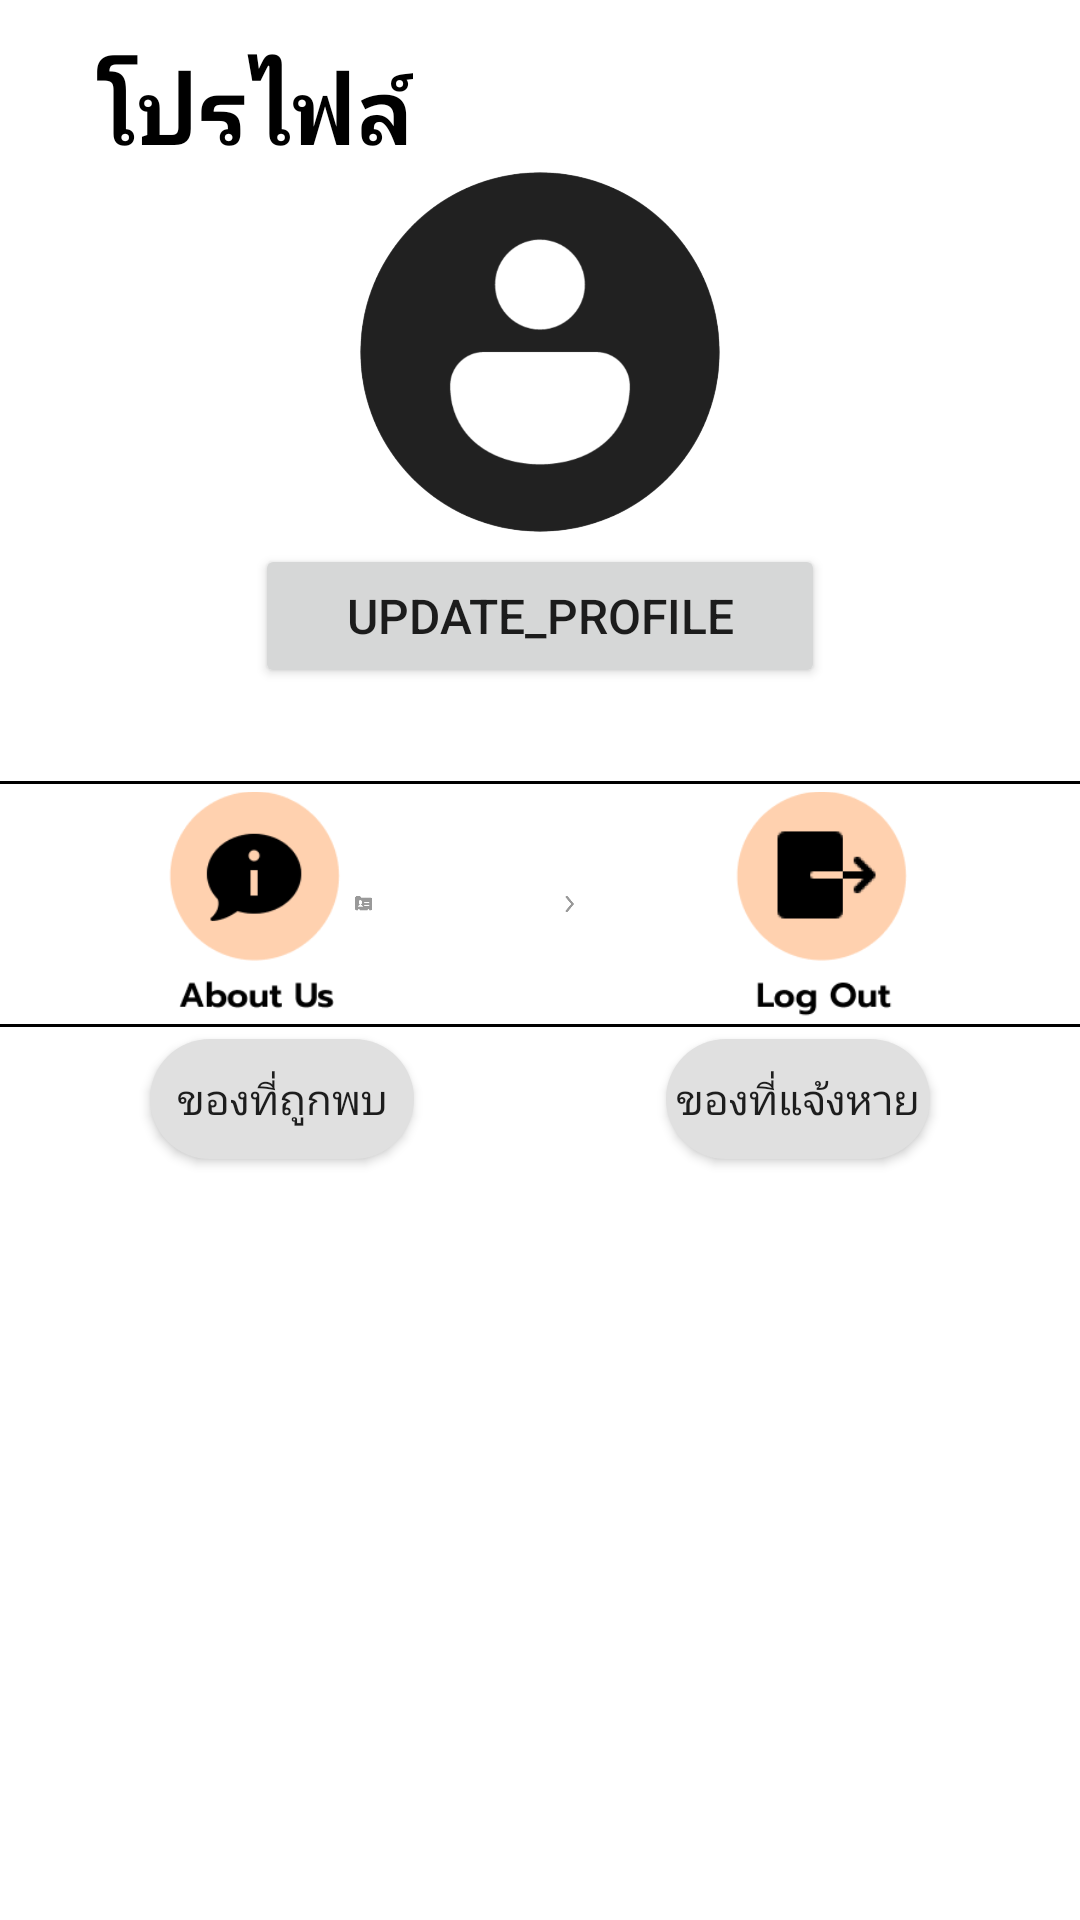

Icons on this 1080 x 1920 Android screen, each with its box as (x1, y1, x2, y2):
person: (360, 172, 720, 532)
